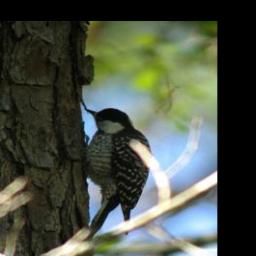Woodpecker: (81, 106, 153, 240)
